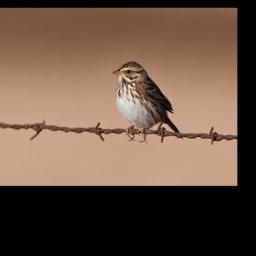Sparrow: (111, 61, 185, 142)
